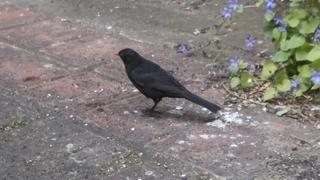blackbird: (112, 48, 221, 119)
